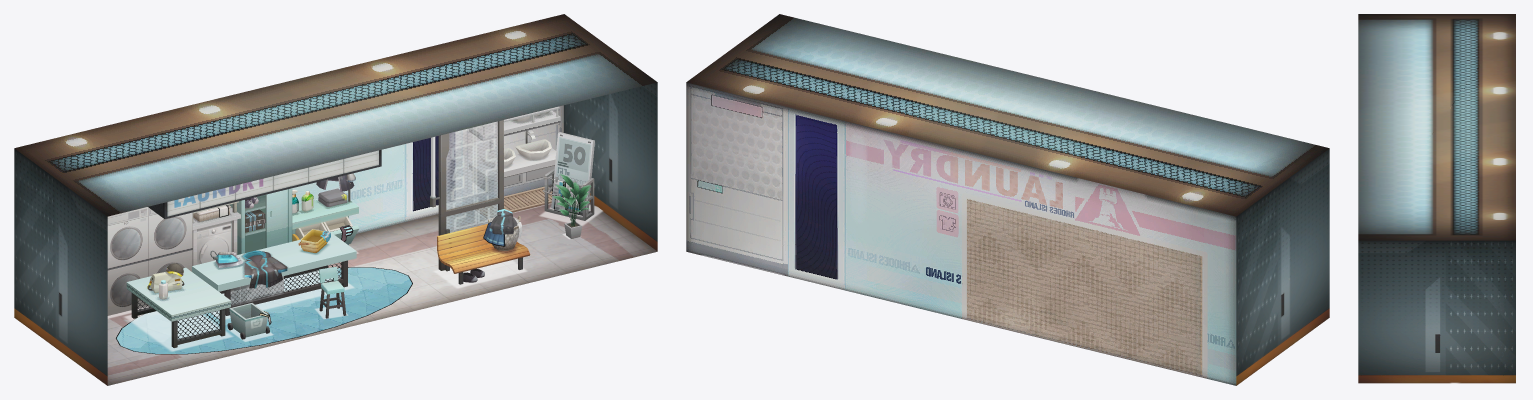
Rendered from laundry.glb.
The picture shows the model from 3 angles, left to right: view 1: azimuth 30°, elevation 25°; view 2: azimuth 150°, elevation 25°; view 3: azimuth 270°, elevation 25°; orthographic projection. The views are drawn at different scales.
Visible parts, largest first — view 1: ROOM_room, ROOM_floor, furni_laundry_washer_01, furni_laundry_carpet_01, furni_laundry_longchair_01, furni_laundry_poor_01, furni_laundry_longdesk_01, furni_laundry_longchair_03, furni_laundry_desk_01, furni_laundry_signboard_01, furni_laundry_basket_01, furni_laundry_newspaper_01 (+12 smaller); view 2: ROOM_room, ROOM_LDoor; view 3: ROOM_room, ROOM_RDoor.
Boxes of the visible parts, x1,y1,x2,y2 form: ROOM_room: (14,14,657,385); ROOM_floor: (107,186,657,385); furni_laundry_washer_01: (107,188,292,315); furni_laundry_carpet_01: (116,267,412,354); furni_laundry_longchair_01: (430,120,530,284); furni_laundry_poor_01: (469,106,560,218); furni_laundry_longdesk_01: (192,229,356,315); furni_laundry_longchair_03: (446,121,497,232); furni_laundry_desk_01: (126,263,230,347); furni_laundry_signboard_01: (148,150,381,218); furni_laundry_basket_01: (292,173,359,245); furni_laundry_newspaper_01: (542,132,594,220); ROOM_room: (686,14,1329,385); ROOM_LDoor: (1297,251,1315,341); ROOM_room: (1358,14,1515,383); ROOM_RDoor: (1381,318,1413,383).
Size of the model in its own units: 7.59 by 2.2 by 2.24.
7 materials, 7 textured.
